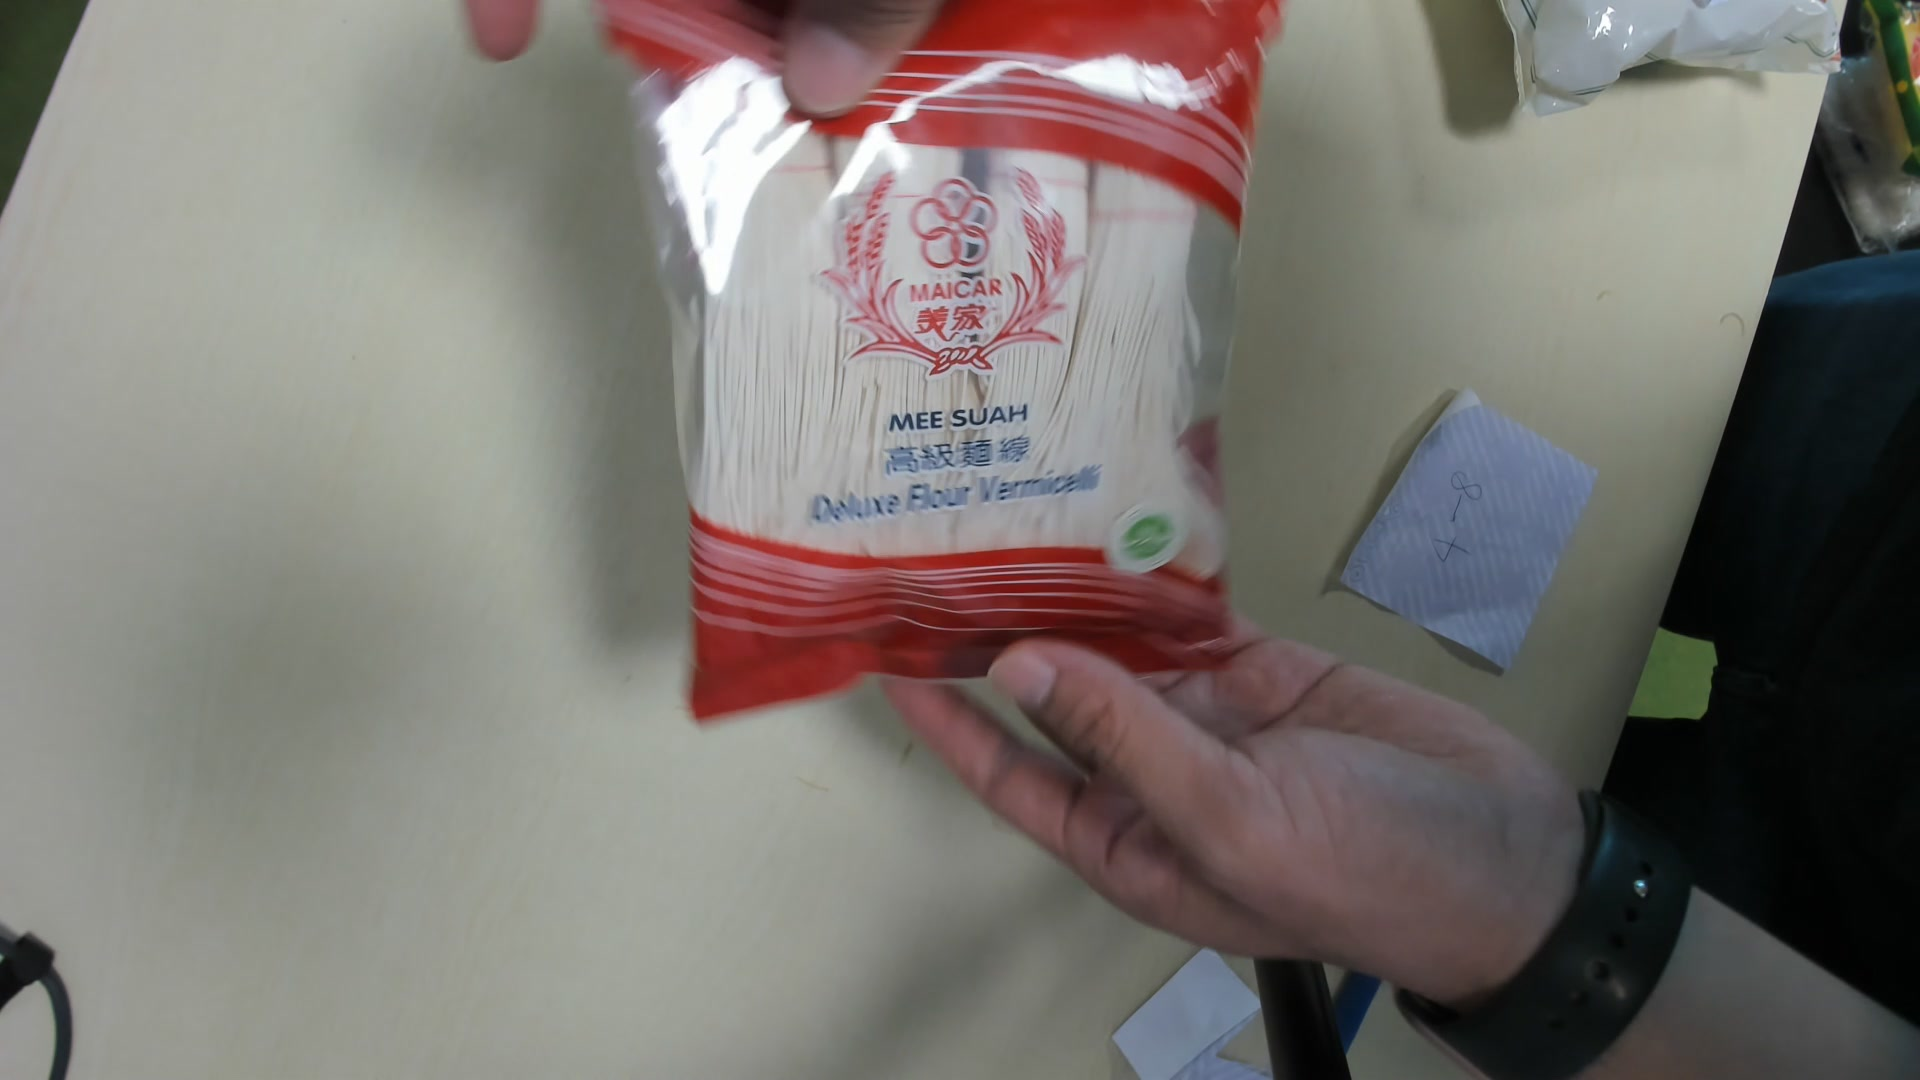BeeHoonVermicelli_100-199g_Halal_NonHealthy: (612, 9, 1258, 727)
